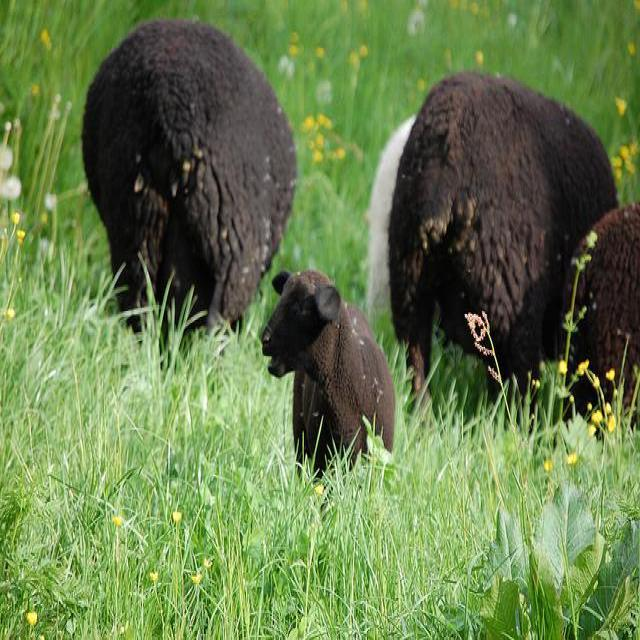Sheep: (392, 68, 624, 426), (80, 17, 301, 338), (262, 269, 396, 481), (559, 203, 639, 431), (367, 117, 415, 319)
